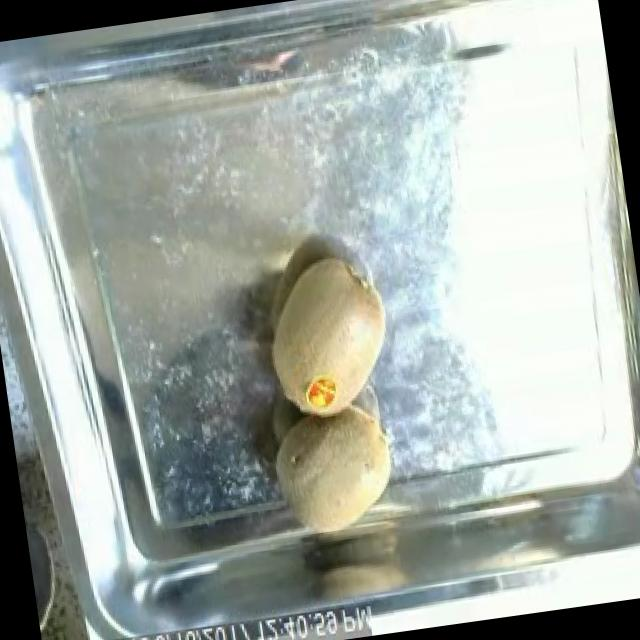Fruit: (245, 242, 406, 434), (252, 388, 412, 542)
